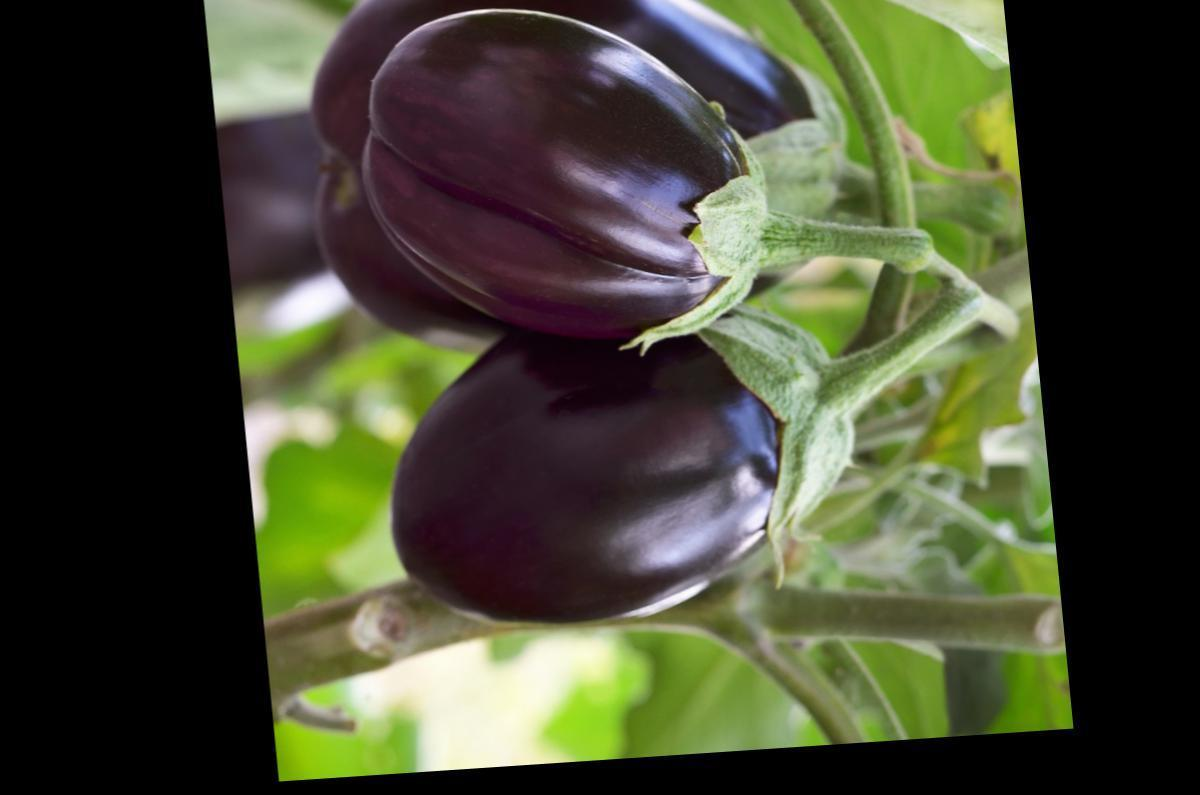eggplant: (321, 0, 1054, 718), (254, 0, 959, 447)
